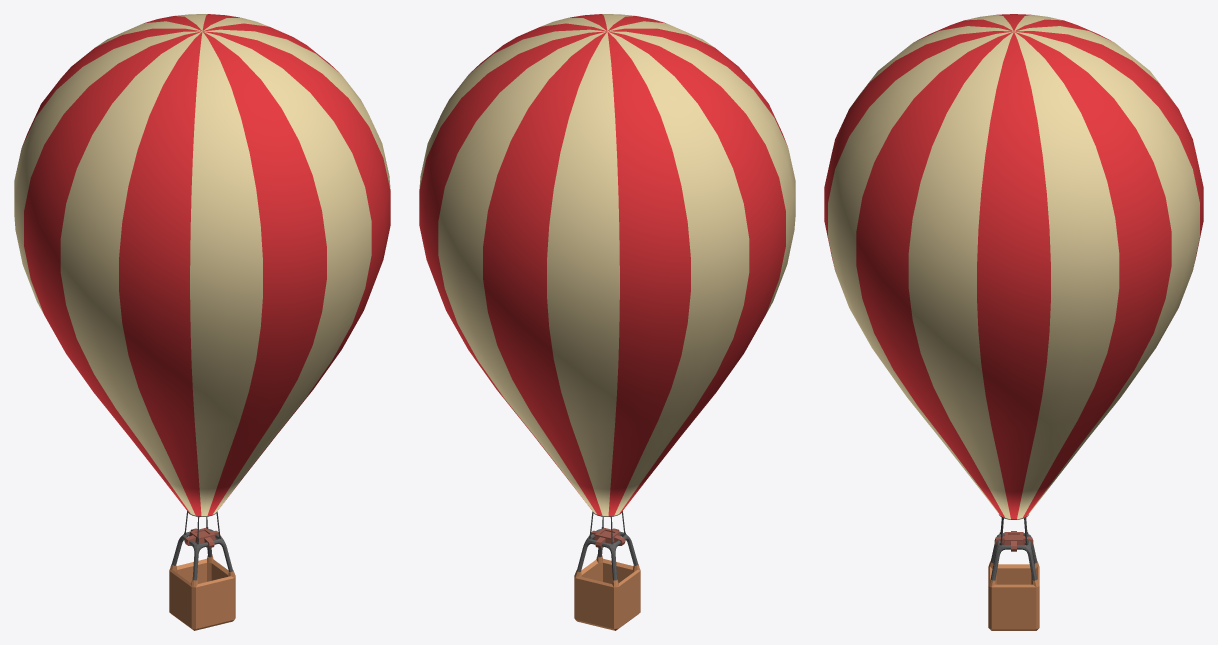
The model's file is Montgolfière.fbx.
The picture shows the model from 3 angles, left to right: view 1: azimuth 30°, elevation 25°; view 2: azimuth 150°, elevation 25°; view 3: azimuth 270°, elevation 25°; orthographic projection.
Visible parts, largest first — view 1: Sphere, Cube; view 2: Sphere, Cube; view 3: Sphere, Cube.
Part boxes in pixels (left/top/right/bottom): Sphere: left=14, top=14, right=390, bottom=544; Cube: left=169, top=528, right=235, bottom=630; Sphere: left=419, top=14, right=795, bottom=544; Cube: left=574, top=528, right=640, bottom=630; Sphere: left=824, top=14, right=1203, bottom=545; Cube: left=988, top=531, right=1039, bottom=630.
Size of the model in its own units: 534 by 916 by 534.
